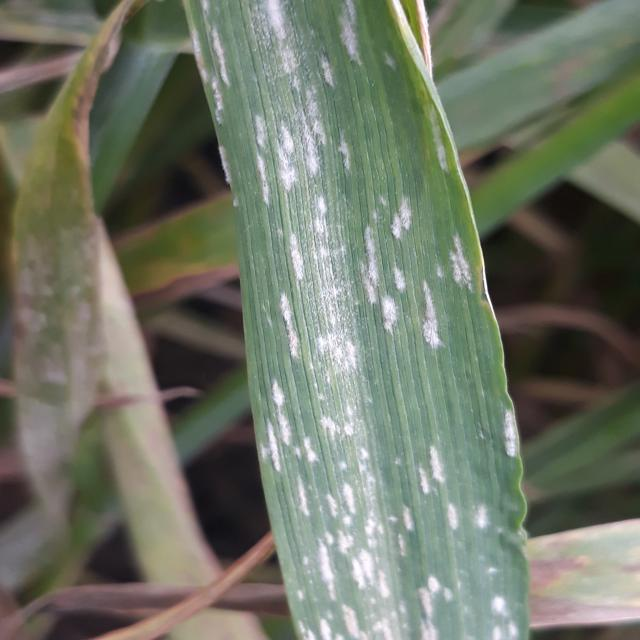powder_mildew: (178, 3, 533, 640), (0, 0, 147, 600)
